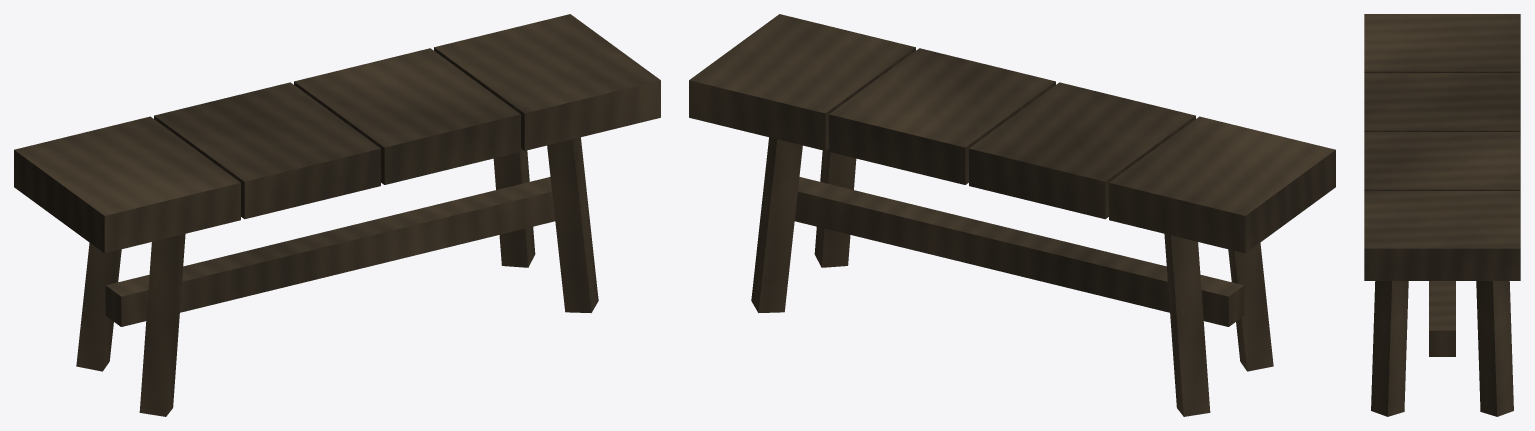
File: Bench.glb
The picture shows the model from 3 angles, left to right: view 1: azimuth 30°, elevation 25°; view 2: azimuth 150°, elevation 25°; view 3: azimuth 270°, elevation 25°; orthographic projection. The views are drawn at different scales.
Parts seen in each view (by area): view 1: Bench; view 2: Bench; view 3: Bench.
Part boxes in pixels (x1,y1,x2,y2): Bench: (14, 14, 660, 416); Bench: (689, 14, 1335, 416); Bench: (1364, 14, 1520, 416).
Size of the model in its own units: 1.24 by 0.4735 by 0.35.
1 material, 1 textured.
